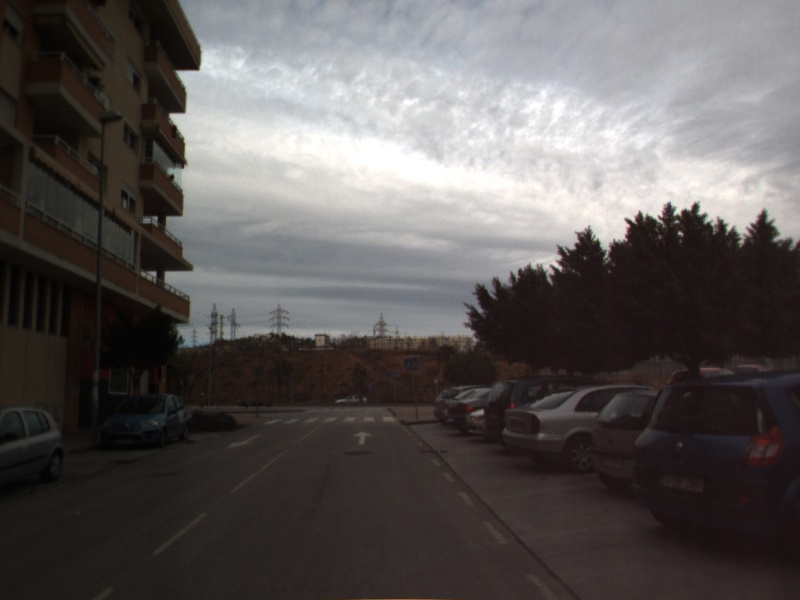STRAIGHT: (351, 429, 375, 447)
